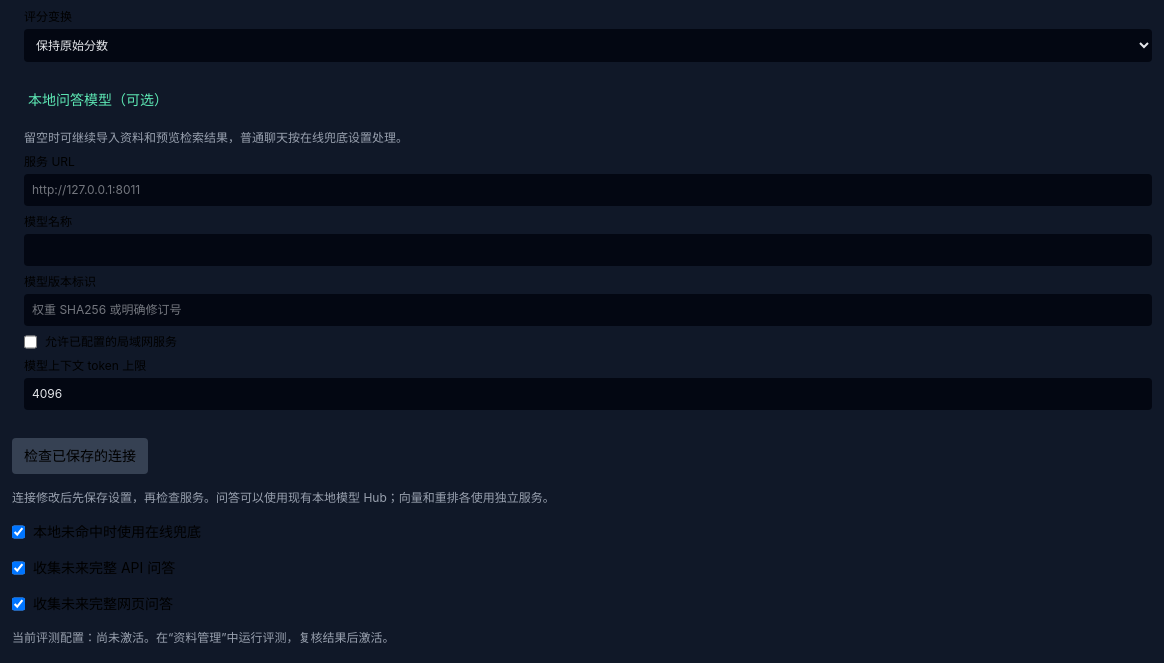
an optional unconfigured QA is shown as skipped during a successful retrieval probe
The image size is (1164, 663).
(page scrolled)
Check: the text "本地问答模型（可选）" is shown, box [24, 90, 172, 110]
Click the button "检查已保存的连接".
click(80, 456)  # box [12, 438, 148, 474]
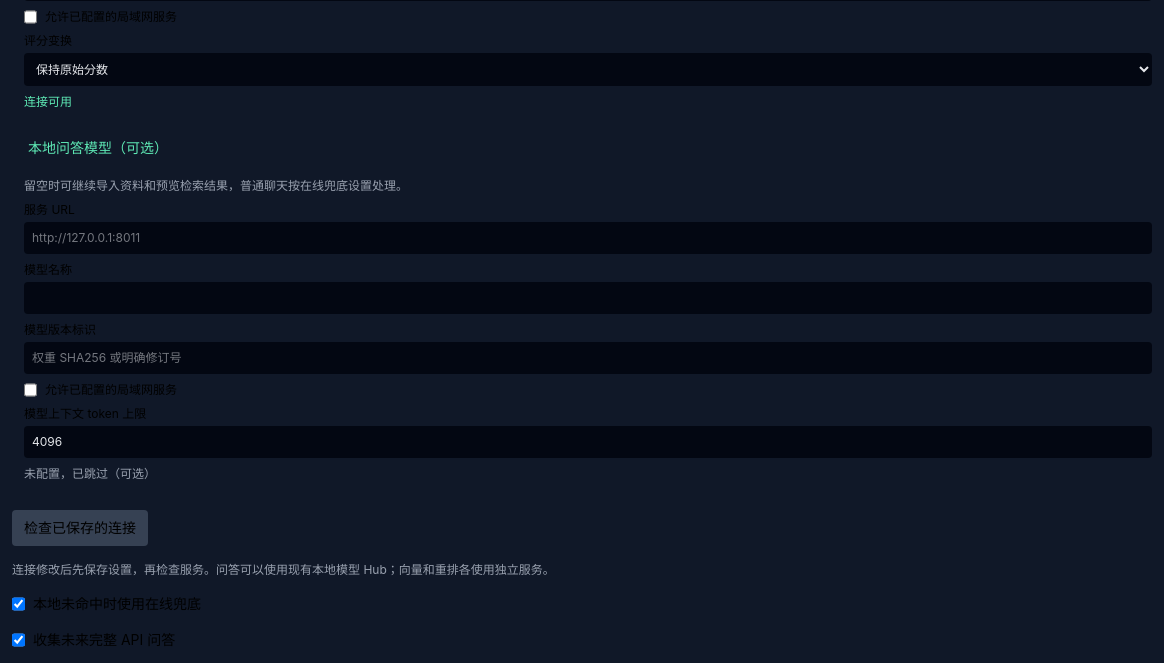
Check: the text "未配置，已跳过（可选）" is shown, box [24, 466, 156, 481]
